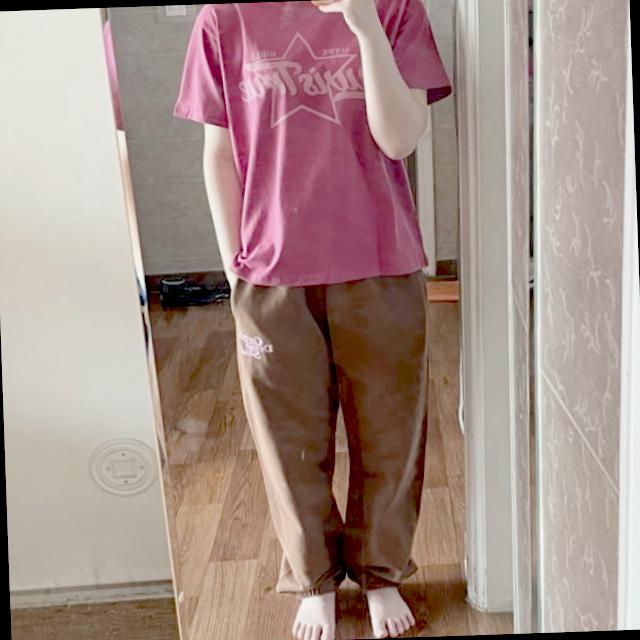cottonpants: (233, 260, 439, 598)
shortsleeve: (167, 0, 456, 293)
